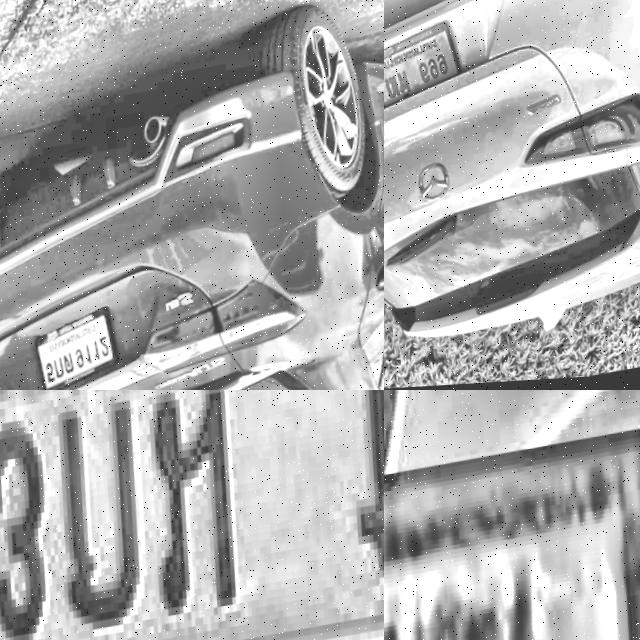license-plate: (0, 390, 384, 640), (384, 478, 640, 640), (30, 301, 128, 390), (384, 17, 472, 115)
